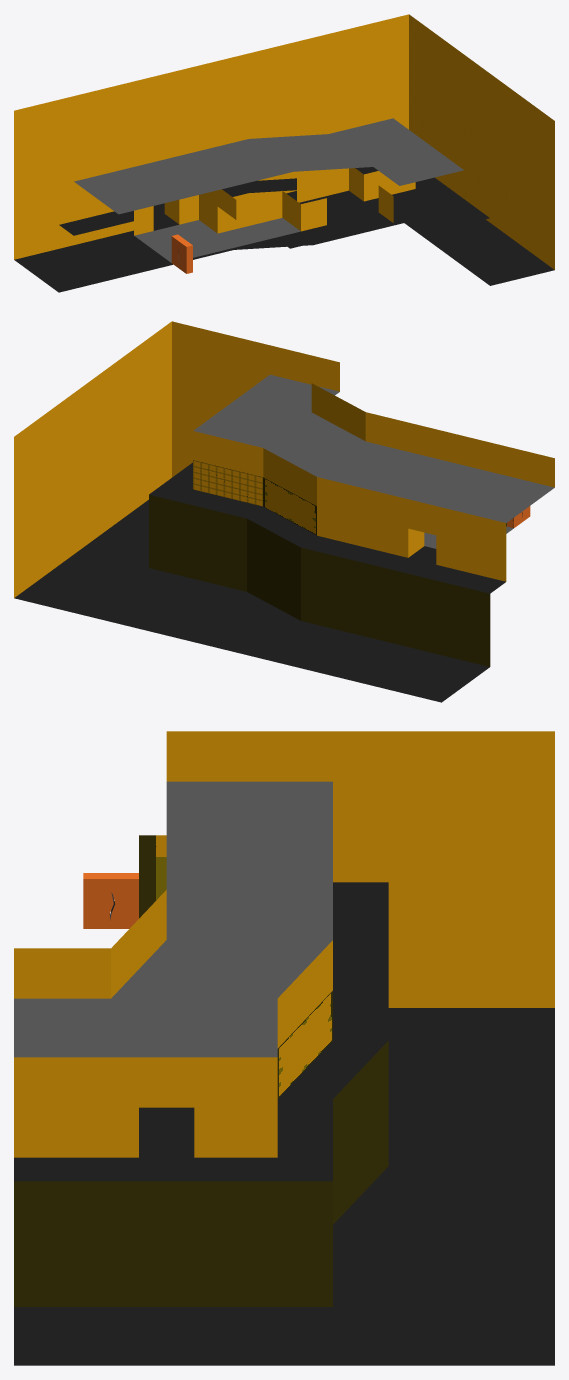
Rendered from world_tests.gltf.
The picture shows the model from 3 angles, top to bottom: view 1: azimuth 30°, elevation 25°; view 2: azimuth 150°, elevation 25°; view 3: azimuth 270°, elevation 25°; orthographic projection. The views are drawn at different scales.
Parts seen in each view (by area): view 1: Cube.001, wall_crack; view 2: Cube.001; view 3: Cube.001, wall_crack.
Boxes of the visible parts, x1=… form: Cube.001: x1=14, y1=14, x2=554, y2=292; wall_crack: x1=171, y1=234, x2=192, y2=273; Cube.001: x1=14, y1=321, x2=554, y2=702; Cube.001: x1=14, y1=731, x2=554, y2=1365; wall_crack: x1=83, y1=873, x2=138, y2=928.
Bounding box in the file's own units: 61 × 22 × 39.
Materials: 9 (3 with a texture image).
